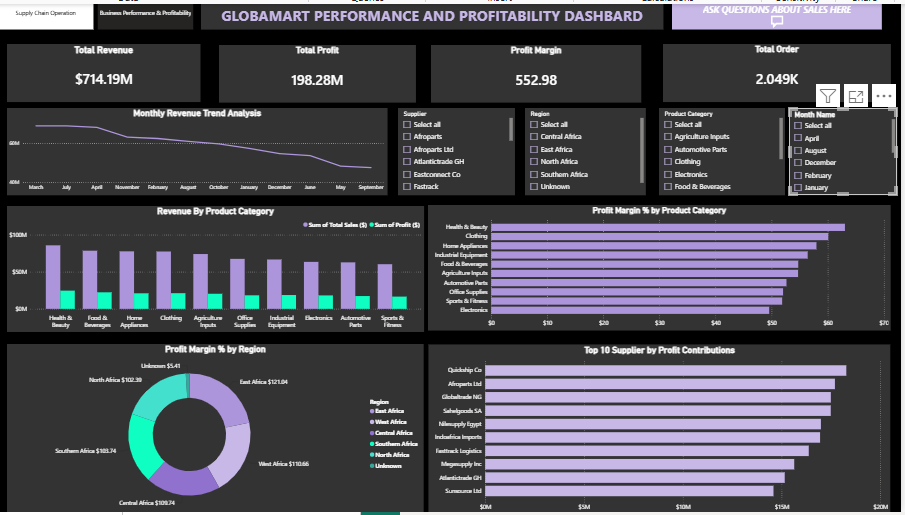

The dashboard page shown, as its layout file describes it:
{"tool":"powerbi","page":{"name":"Business Performance & Profitability","canvas":[2100,1200],"ordinal":1},"visuals":[{"type":"cardVisual","title":"Total Revenue","fields":{"Data":["Sum(CleanedData.Total Sales ($))"]},"box":[20,112.5,450,135],"z":0},{"type":"cardVisual","title":"Total Profit","fields":{"Data":["Sum(CleanedData.Profit ($))"]},"box":[513.2,113.2,457.9,134.2],"z":1000},{"type":"clusteredColumnChart","title":"Revenue By Product Category","fields":{"Category":["CleanedData.Product Category"],"Y":["Sum(CleanedData.Total Sales ($))","Sum(CleanedData.Profit ($))"]},"box":[20,487.5,970,292.5],"z":2000},{"type":"clusteredBarChart","title":"Profit Margin % by Product Category","fields":{"Category":["CleanedData.Product Category"],"Y":["Sum(CleanedData.Profit Margin %)"]},"box":[1000,486.8,1076.3,292.1],"z":3000},{"type":"donutChart","title":"Profit Margin % by Region","fields":{"Category":["CleanedData.Region"],"Y":["Sum(CleanedData.Profit Margin %)"]},"box":[20.4,810.2,969.4,398],"z":4000},{"type":"barChart","title":"Top 10 Supplier by Profit Contributions","fields":{"Category":["CleanedData.Supplier"],"Y":["Sum(CleanedData.Profit ($))"]},"box":[1000,810.2,1075.5,398],"z":5000},{"type":"lineChart","title":"Monthly Revenue Trend Analysis ","fields":{"Category":["CleanedData.Month Name"],"Y":["Sum(CleanedData.Total Sales ($))"]},"box":[20,260,885,202.5],"z":6000},{"type":"slicer","fields":{"Values":["CleanedData.Month Name"]},"box":[1839.7,260.3,251.7,203.4],"z":7000},{"type":"cardVisual","title":"Profit Margin","fields":{"Data":["Sum(CleanedData.Profit Margin %)"]},"box":[1007.9,113.2,489.5,134.2],"z":8000},{"type":"cardVisual","title":"Total Order","fields":{"Data":["CountNonNull(CleanedData.Total Orders)"]},"box":[1547.5,112.5,530,135],"z":9000},{"type":"slicer","fields":{"Values":["CleanedData.Product Category"]},"box":[1537.9,260.3,293.1,203.4],"z":10000},{"type":"slicer","fields":{"Values":["CleanedData.Region"]},"box":[1225.9,260.3,281,203.4],"z":11000},{"type":"slicer","fields":{"Values":["CleanedData.Supplier"]},"box":[929.3,260.3,272.4,203.4],"z":12000},{"type":"shape","title":"GLOBAMART PERFORMANCE AND PROFITABILITY DASHBARD","box":[471.4,12.5,1075,66.1],"z":13000},{"type":"actionButton","title":"ASK QUESTIONS","box":[1568,14,488,64],"z":14000},{"type":"pageNavigator","box":[0,0,454.1,78.7],"z":15000}]}

Visuals, with their boxes on the page's 2100x1200 design canvas (x1, y1, x2, y2). These are canvas units, not pixel positions in the 905x515 screenshot, which may show the page scaled, cropped or inside an application window:
"Total Revenue" cardVisual: Rect(20, 112, 470, 248)
"Total Profit" cardVisual: Rect(513, 113, 971, 247)
"Revenue By Product Category" clusteredColumnChart: Rect(20, 488, 990, 780)
"Profit Margin % by Product Category" clusteredBarChart: Rect(1000, 487, 2076, 779)
"Profit Margin % by Region" donutChart: Rect(20, 810, 990, 1208)
"Top 10 Supplier by Profit Contributions" barChart: Rect(1000, 810, 2076, 1208)
"Monthly Revenue Trend Analysis " lineChart: Rect(20, 260, 905, 462)
slicer - CleanedData.Month Name: Rect(1840, 260, 2091, 464)
"Profit Margin" cardVisual: Rect(1008, 113, 1497, 247)
"Total Order" cardVisual: Rect(1548, 112, 2078, 248)
slicer - CleanedData.Product Category: Rect(1538, 260, 1831, 464)
slicer - CleanedData.Region: Rect(1226, 260, 1507, 464)
slicer - CleanedData.Supplier: Rect(929, 260, 1202, 464)
"GLOBAMART PERFORMANCE AND PROFITABILITY DASHBARD" shape: Rect(471, 12, 1546, 79)
"ASK QUESTIONS" actionButton: Rect(1568, 14, 2056, 78)
pageNavigator: Rect(0, 0, 454, 79)
